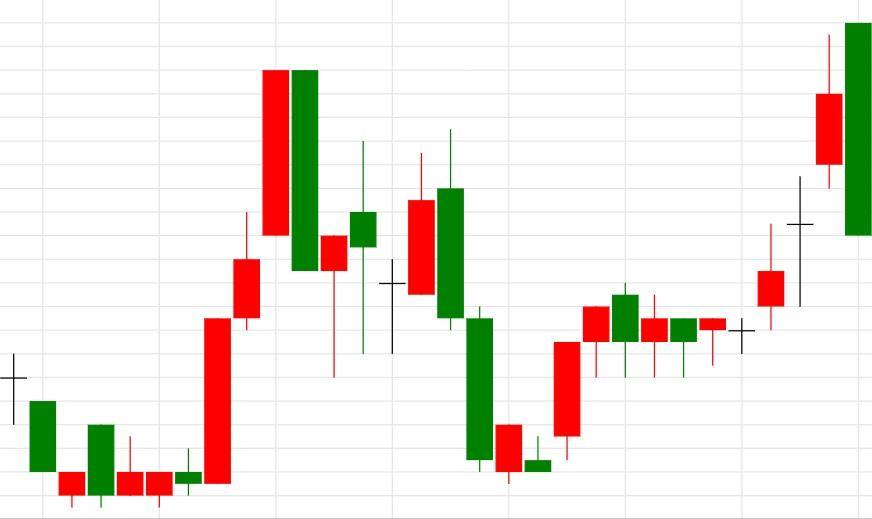bearish_engulfing_fall: (495, 23, 872, 485), (58, 69, 319, 509)
hammer_rise: (261, 69, 349, 378)
